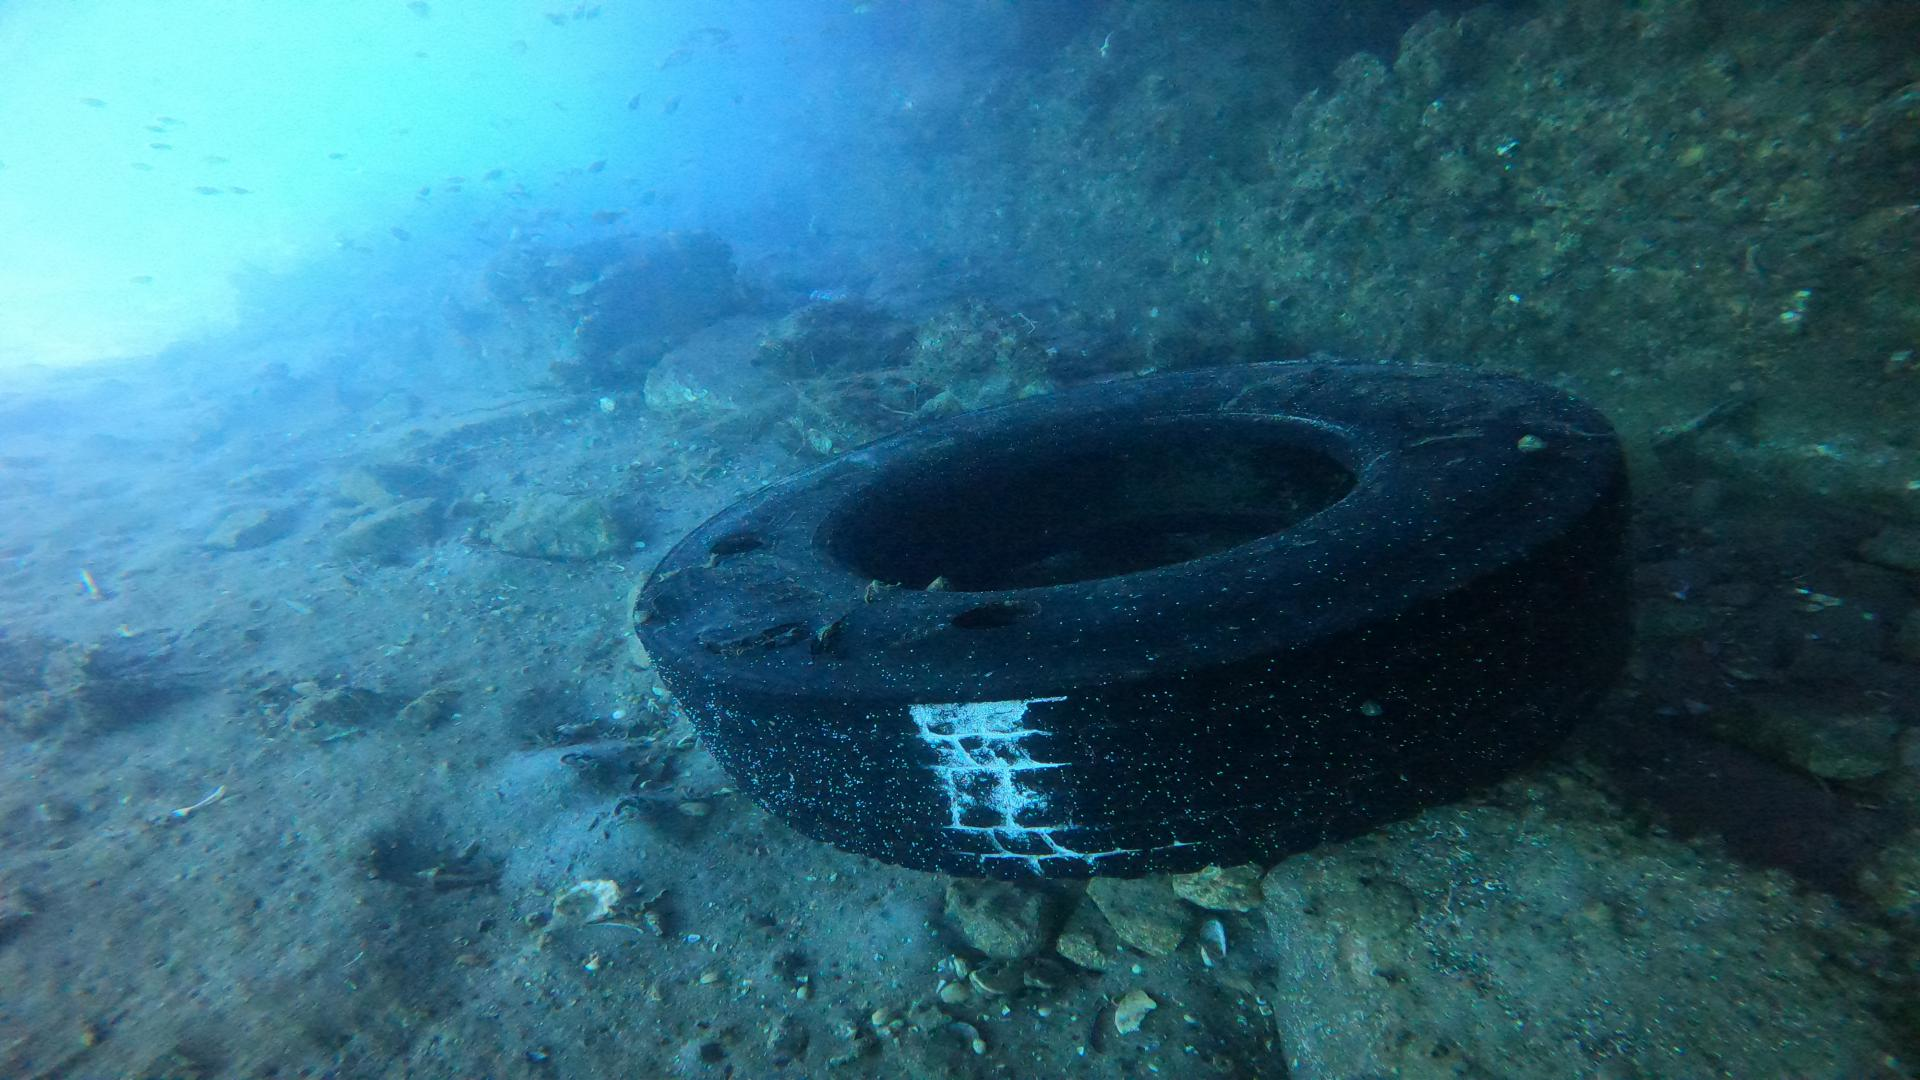tire: (634, 367, 1626, 877)
